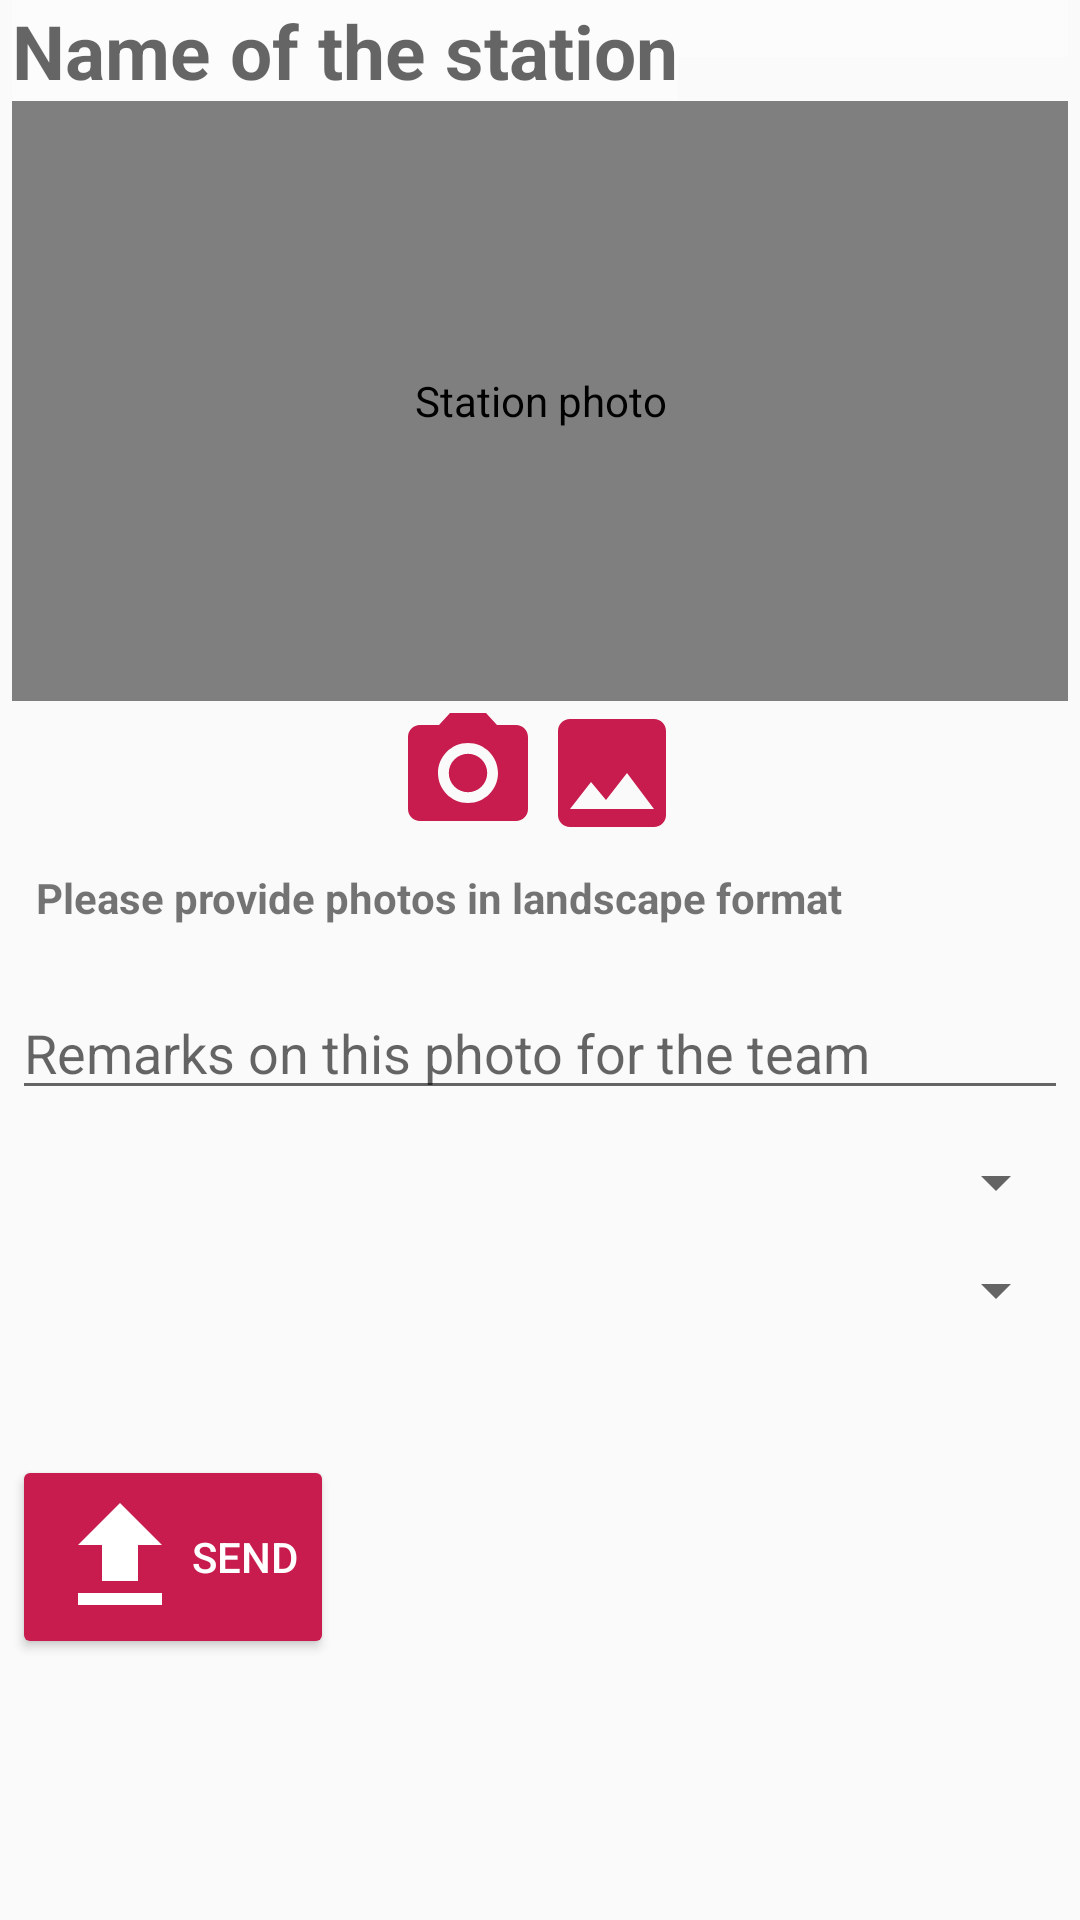

Icons on this 1080px×1920px Android screen, each with its box as (x1, y1, x2, y2):
Photo selection: (558, 719, 666, 827)
Take a photo: (408, 713, 528, 821)
